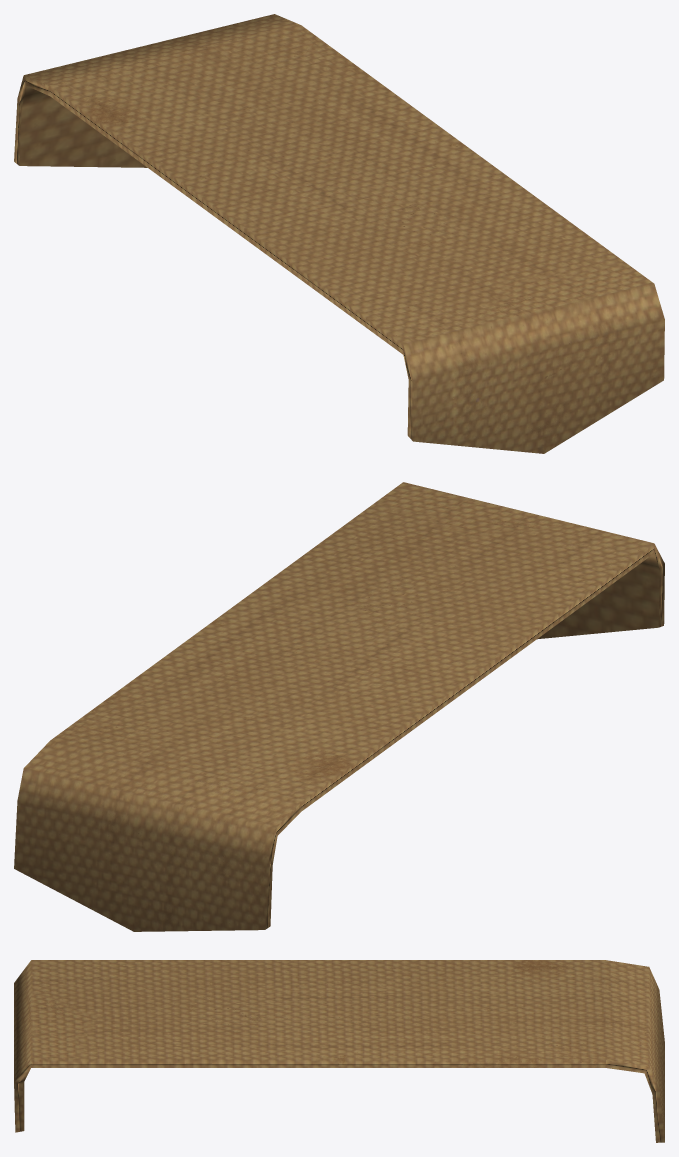
The model's file is cloth_1_tablecloth.fbx.
The picture shows the model from 3 angles, top to bottom: view 1: azimuth 30°, elevation 25°; view 2: azimuth 150°, elevation 25°; view 3: azimuth 270°, elevation 25°; orthographic projection. The views are drawn at different scales.
Visible parts, largest first — view 1: cloth_1_tablecloth; view 2: cloth_1_tablecloth; view 3: cloth_1_tablecloth.
Part boxes in pixels (box(x1,y1,x2,y2)): cloth_1_tablecloth: box(14, 14, 664, 453); cloth_1_tablecloth: box(14, 482, 664, 931); cloth_1_tablecloth: box(14, 960, 664, 1142).
Bounding box in the file's own units: 54.62 × 28.27 × 151.
